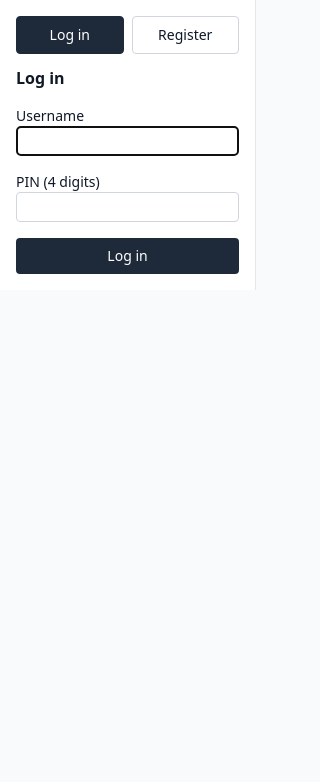
LeftPanel › unauthenticated state › switches to RegisterForm when Register is clicked
Step 1. Click the button "Register" → {"x": 185, "y": 35}, box [132,16,239,54]
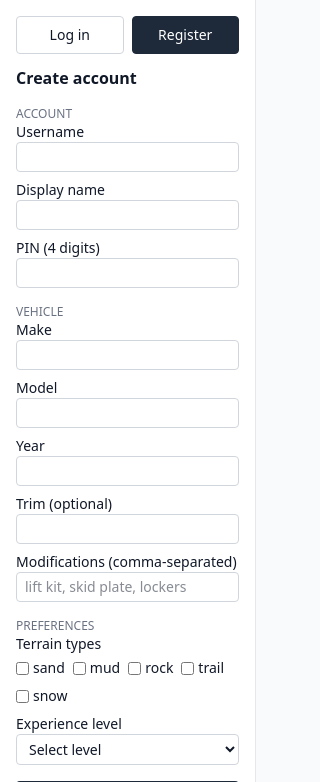
Now the heading "Create account" is shown, box [16,67,137,89]
